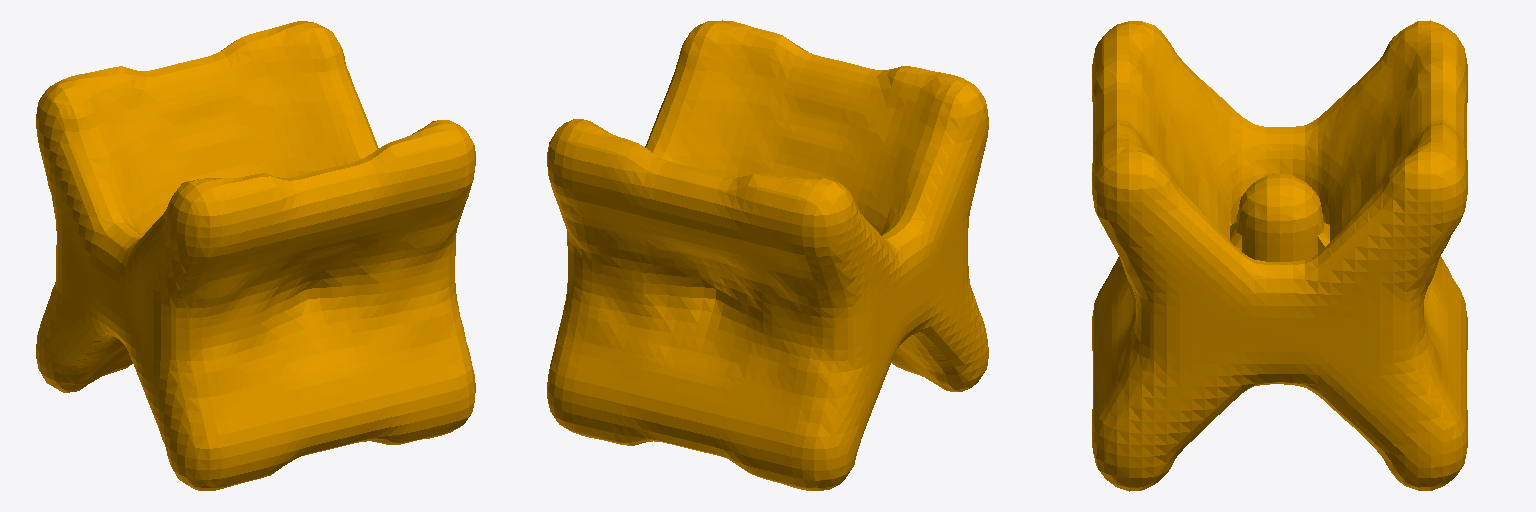
The robot description file, URDF, robot "O08_3":
<?xml version="1.0"?>
<robot name="O08_3">
  <link name="base_link">
    <visual>
      <geometry>
        <mesh filename="../../../../meshes/egad/train/O08_3.obj" />
      </geometry>
    </visual>
  </link>
</robot>

--- Facts derived from the render (not from the file) ---
Views: 3 orthographic renders of the robot side by side, from view 1: azimuth 30°, elevation 25°; view 2: azimuth 150°, elevation 25°; view 3: azimuth 270°, elevation 25°.
Model O08_3 with 1 links and 0 joints (none), rooted at base_link, posed every joint at zero.
Visible links, largest first — view 1: base_link; view 2: base_link; view 3: base_link.
Boxes of the visible links, x1,y1,x2,y2 form: base_link: (36,21,475,490); base_link: (547,20,988,490); base_link: (1092,20,1467,491).
Bounding box of the posed robot: 0.0609 × 0.0607 × 0.06 m (x, y, z).
1 mesh visuals loaded from 1 distinct referenced files (1 OBJ).